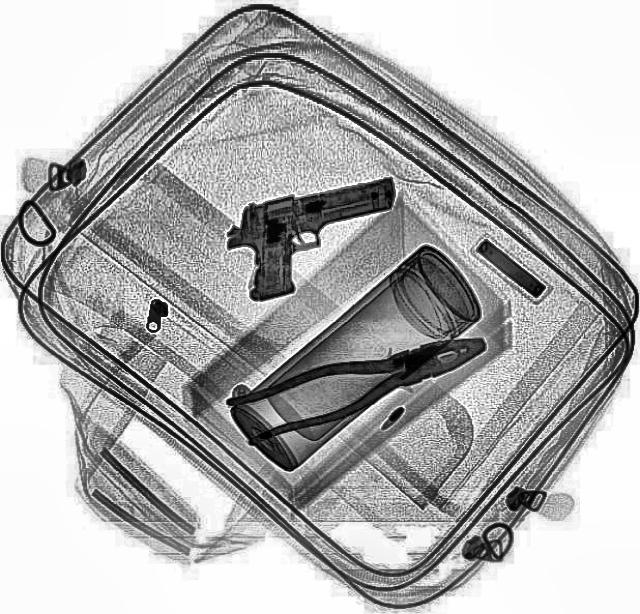Gun: (214, 170, 416, 304)
Pliers: (222, 314, 493, 448)
